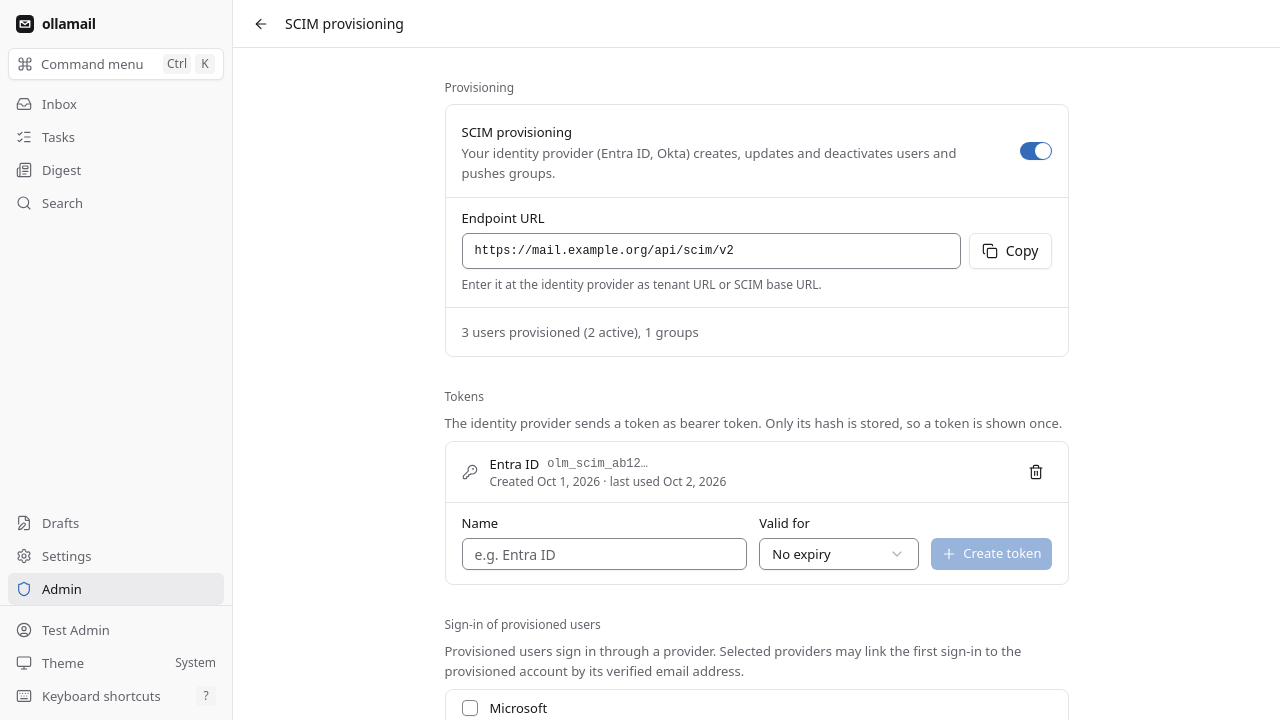
Test: admin: SCIM provisioning › revokes a token after confirmation
The width and height of the screenshot is (1280, 720).
Expected: the heading "SCIM provisioning" is shown, [285,14,404,34]
Expected: the text "3 users provisioned (2 active), 1 groups" is shown, [462,323,699,341]
What coordinates should you click on to do the following:
click the button named "Revoke token Entra ID"
I would click on:
 (1036, 472)
Its box is [1020,456,1052,488].
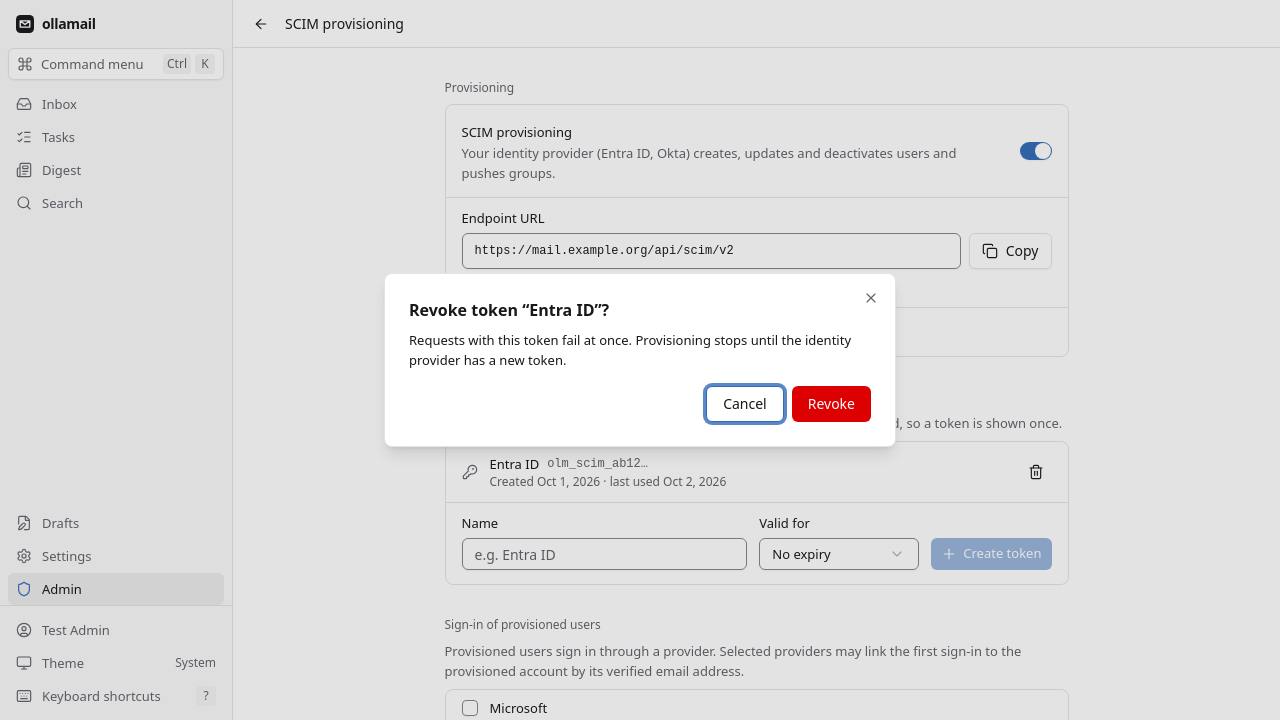
What coordinates should you click on to do the following:
click the button "Revoke"
I would click on:
 (831, 404)
Its box is [792,386,871,422].
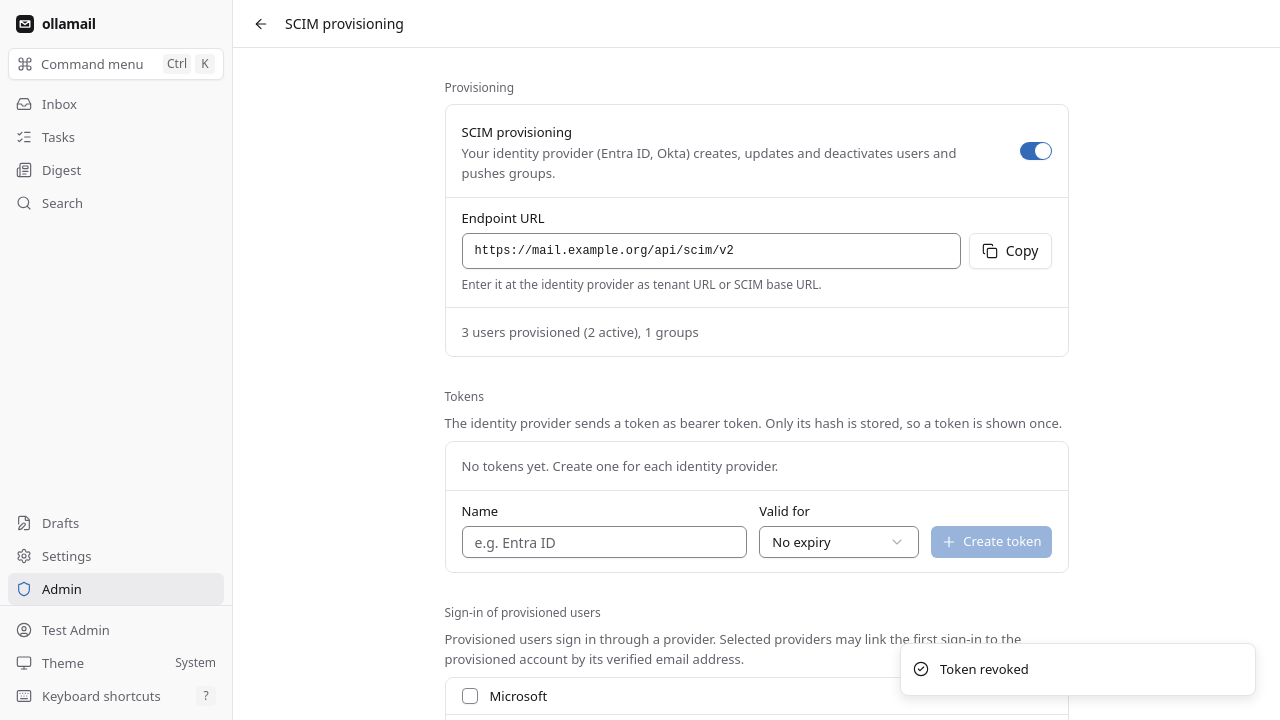
Now the text "No tokens yet. Create one for each identity provider." is shown, box [446,442,1068,491]
